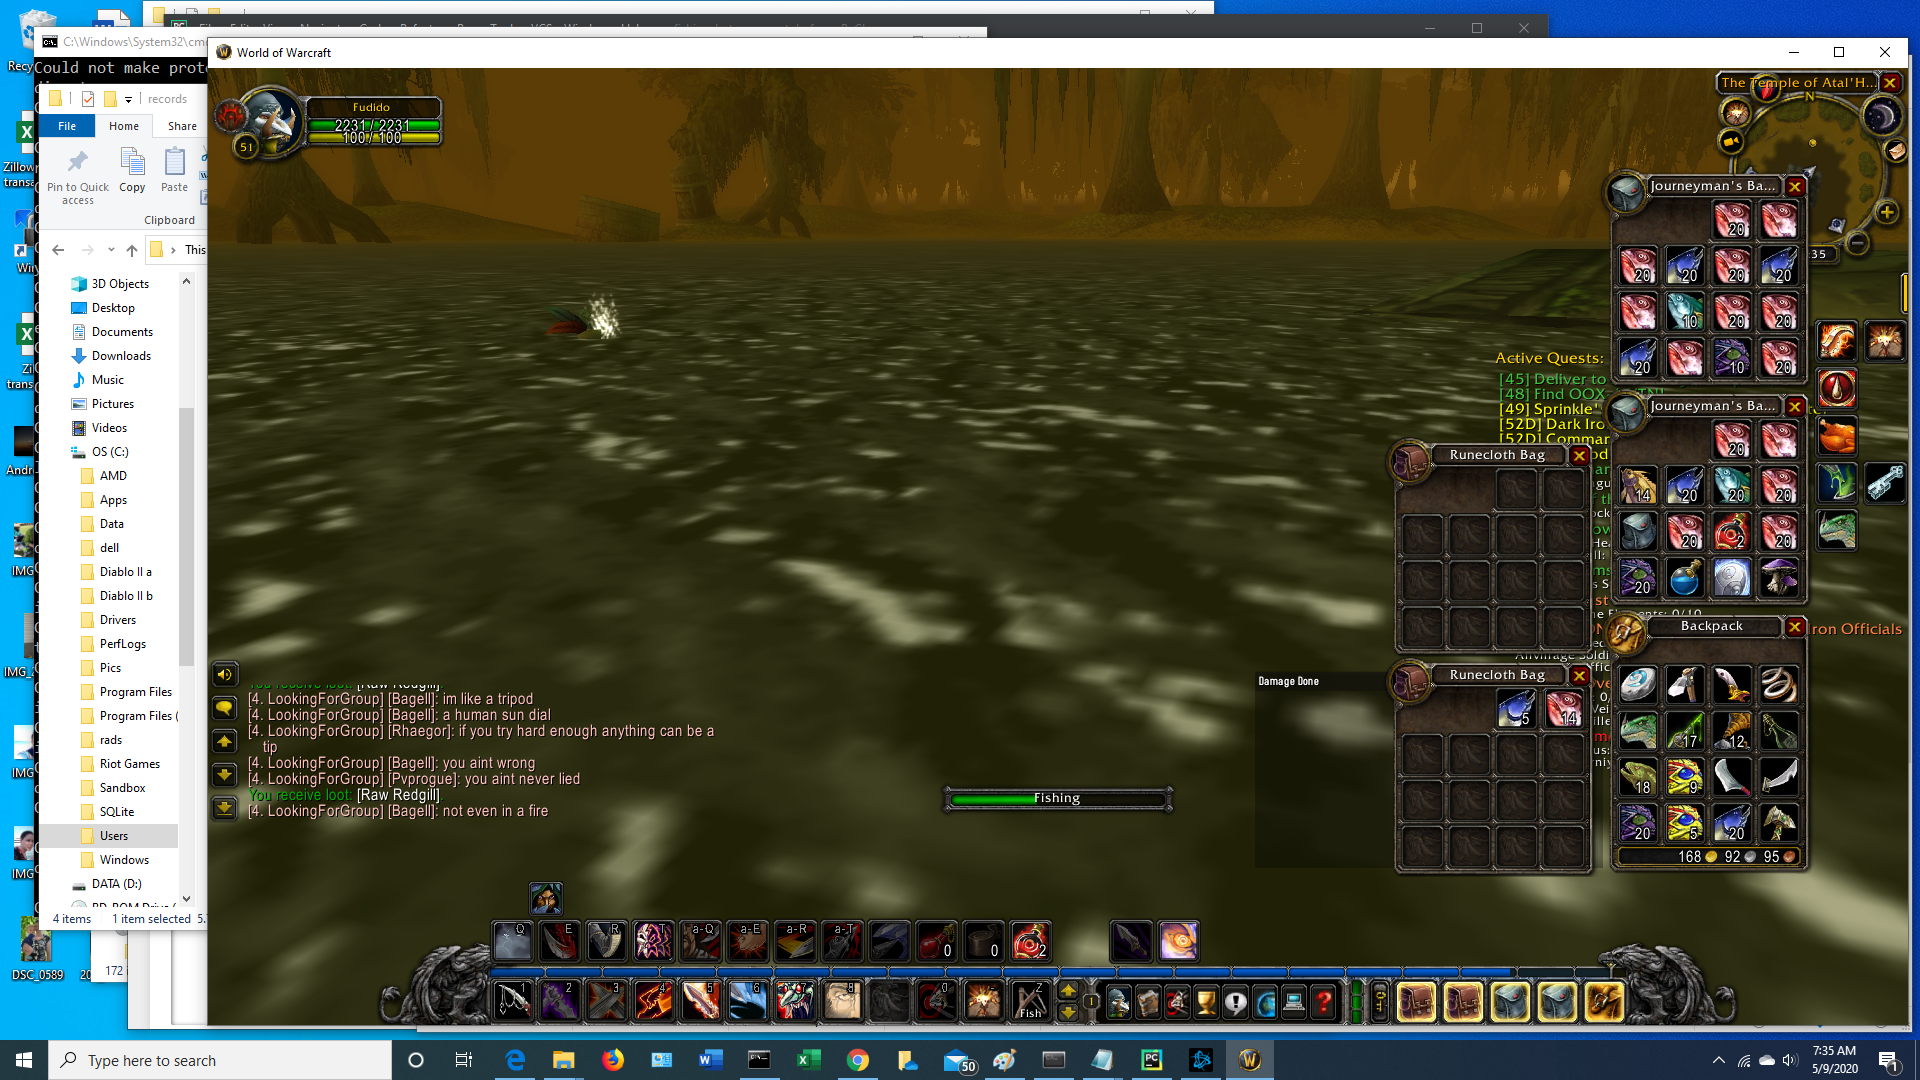bobber: (538, 299, 617, 353)
